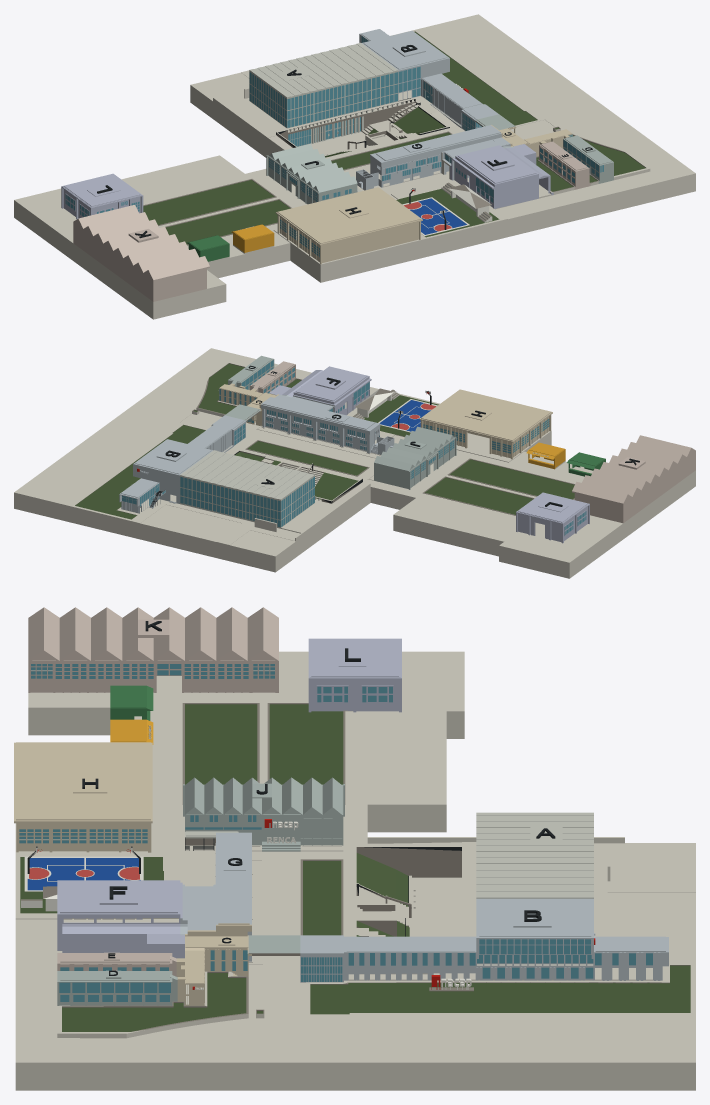
The model's file is Instituto3D-color.obj.
The picture shows the model from 3 angles, top to bottom: view 1: azimuth 30°, elevation 25°; view 2: azimuth 150°, elevation 25°; view 3: azimuth 270°, elevation 25°; orthographic projection. The views are drawn at different scales.
Visible parts, largest first — view 1: Piso, A, L, H, B, F, G, Patio_Inferior, J, Cancha, L_Anexo, E (+4 smaller); view 2: Piso, A, L, H, B, G, J, F, L_Anexo, Cancha, Patio_Inferior, C (+4 smaller); view 3: Piso, B, L, H, A, Patio_Inferior, J, F, L_Anexo, G, Cancha, D (+5 smaller).
Boxes of the visible parts, x1=… form: Piso: x1=14, y1=14, x2=695, y2=319; A: x1=249, y1=42, x2=402, y2=146; L: x1=73, y1=205, x2=209, y2=301; H: x1=275, y1=187, x2=422, y2=264; B: x1=359, y1=29, x2=499, y2=130; F: x1=450, y1=144, x2=553, y2=208; G: x1=356, y1=125, x2=513, y2=190; Patio_Inferior: x1=276, y1=98, x2=449, y2=157; J: x1=266, y1=144, x2=357, y2=204; Cancha: x1=396, y1=182, x2=499, y2=237; L_Anexo: x1=61, y1=173, x2=143, y2=218; E: x1=539, y1=141, x2=590, y2=189; Piso: x1=14, y1=348, x2=695, y2=578; A: x1=180, y1=450, x2=319, y2=528; L: x1=572, y1=435, x2=695, y2=523; H: x1=419, y1=389, x2=552, y2=459; B: x1=119, y1=415, x2=246, y2=513; G: x1=261, y1=394, x2=394, y2=454; J: x1=374, y1=426, x2=456, y2=489; F: x1=269, y1=366, x2=371, y2=415; L_Anexo: x1=516, y1=492, x2=589, y2=543; Cancha: x1=353, y1=388, x2=438, y2=436; Patio_Inferior: x1=234, y1=451, x2=362, y2=503; C: x1=218, y1=383, x2=278, y2=425; Piso: x1=15, y1=651, x2=695, y2=1090; B: x1=300, y1=898, x2=668, y2=982; L: x1=28, y1=607, x2=278, y2=692; H: x1=14, y1=742, x2=152, y2=852; A: x1=476, y1=812, x2=593, y2=898; Patio_Inferior: x1=356, y1=846, x2=465, y2=936; J: x1=183, y1=777, x2=344, y2=851; F: x1=57, y1=880, x2=184, y2=958; L_Anexo: x1=308, y1=638, x2=401, y2=712; G: x1=180, y1=832, x2=251, y2=961; Cancha: x1=20, y1=845, x2=163, y2=913; D: x1=57, y1=970, x2=177, y2=1005.
Bounding box in the file's own units: 91874 × 8551 × 64384.
